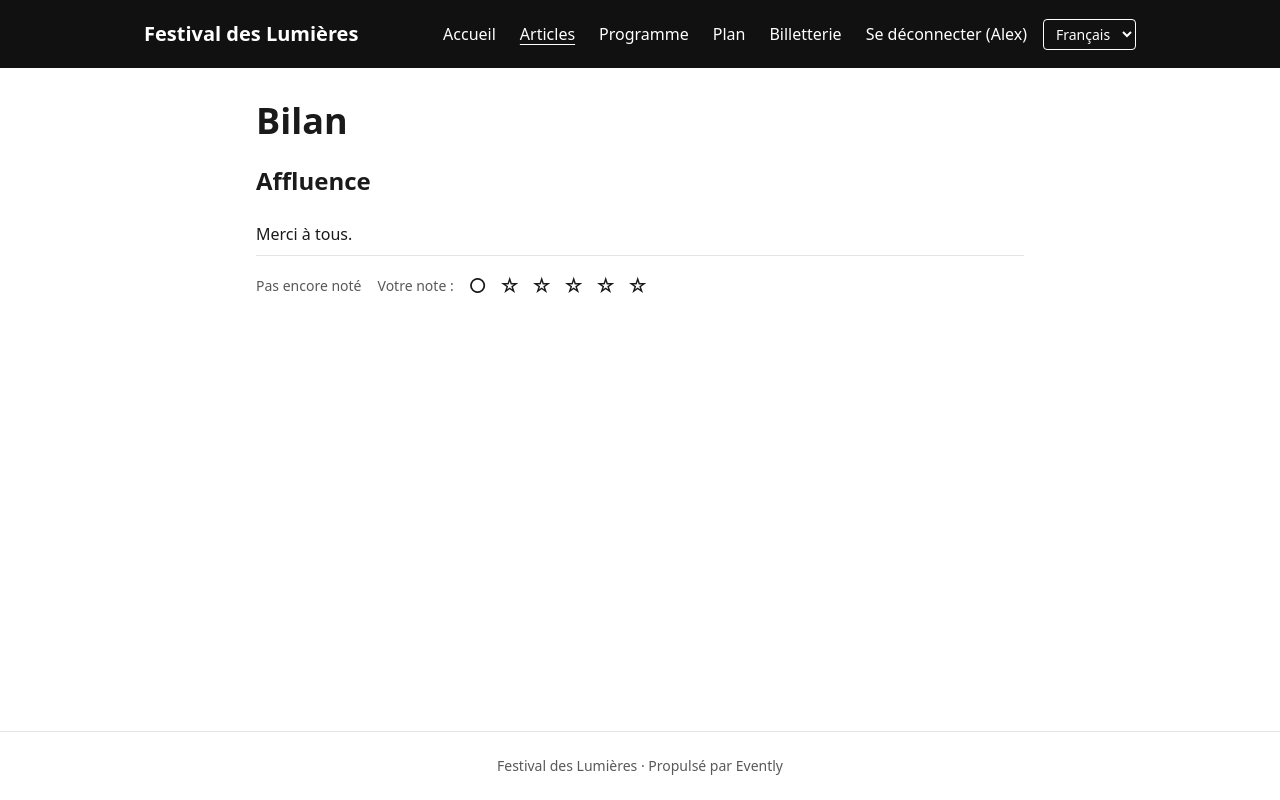
Test: public site › lets a subscriber rate a block with the keyboard
Step 1. Click the radio button named "4 étoiles" → (606, 286), box top-left (590, 264), bottom-right (622, 308)
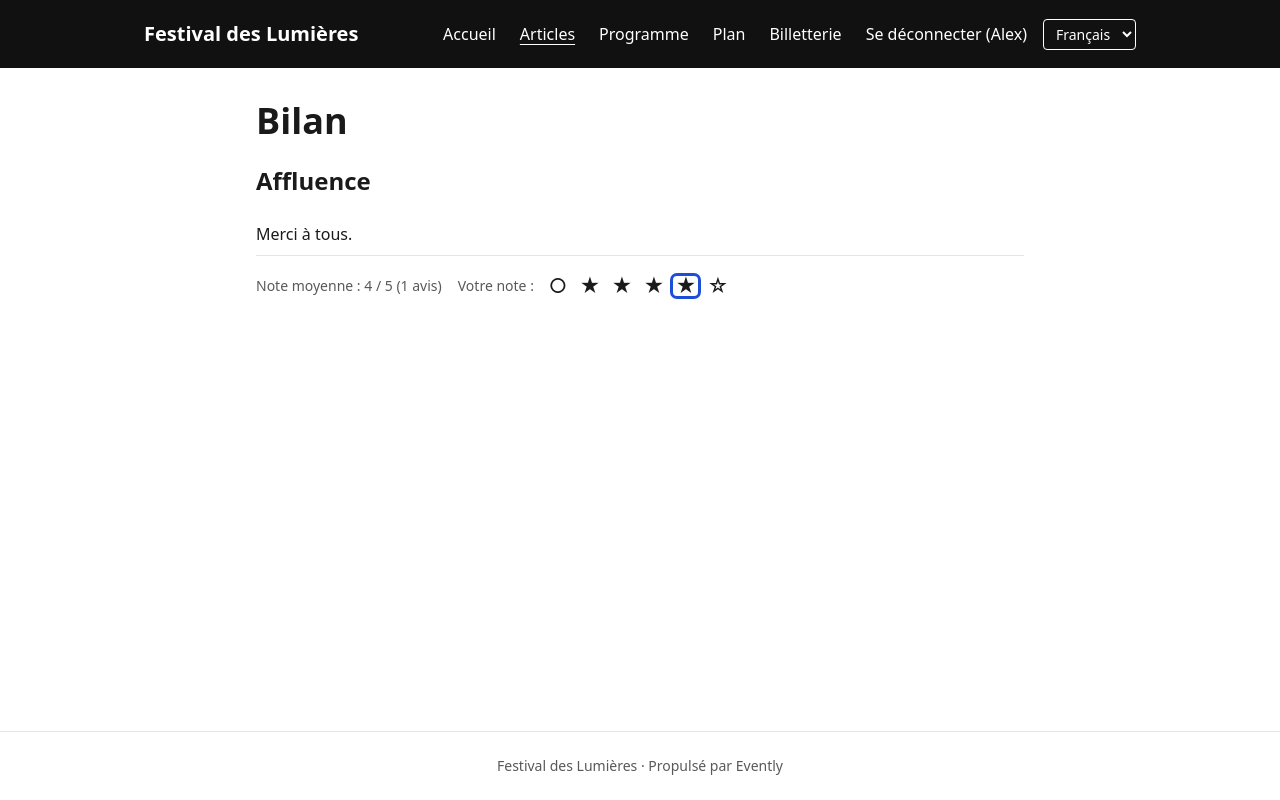
Expected: the radio button named "4 étoiles" is checked, top-left (670, 264), bottom-right (702, 308)
Expected: the text "Note moyenne : 4 / 5 (1 avis)" is shown, top-left (256, 276), bottom-right (442, 296)
